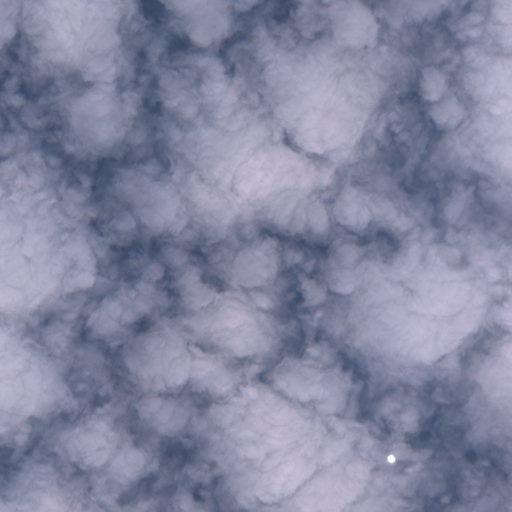Iceberg: (387, 455, 395, 462)
